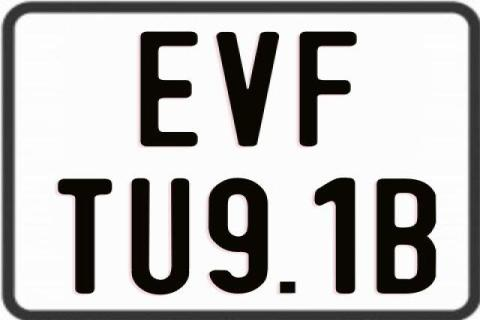0: (207, 176, 273, 295), (312, 175, 356, 292)
B: (377, 176, 437, 293)
E: (140, 29, 204, 148)
F: (296, 30, 354, 146)
T: (56, 176, 115, 295)
U: (128, 177, 192, 296)
V: (214, 32, 279, 147)
